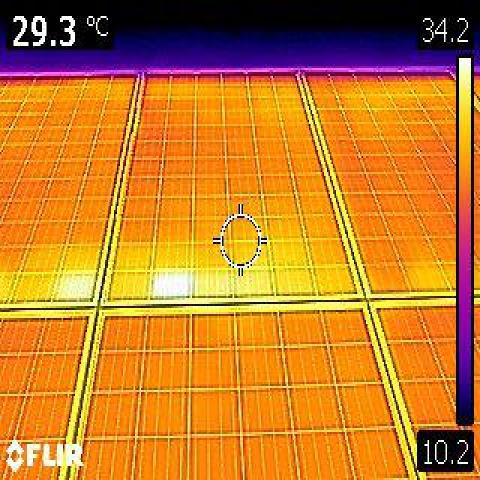fault: (60, 274, 96, 302), (154, 273, 188, 299)
